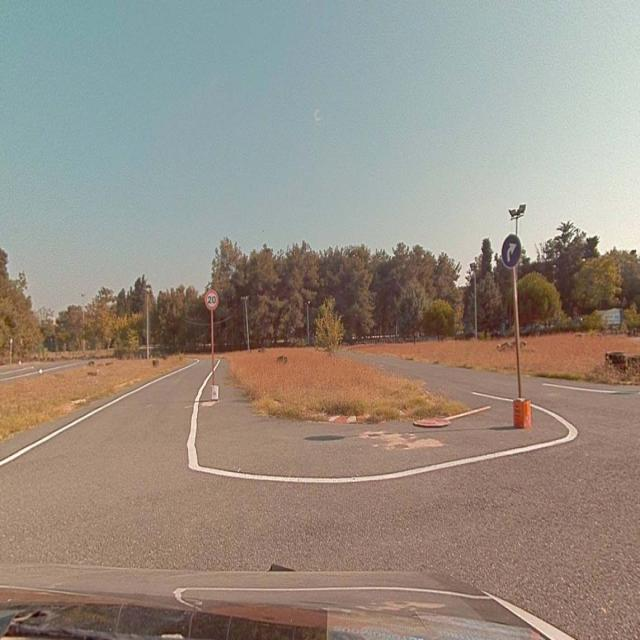20: (205, 290, 218, 309)
sag: (502, 234, 521, 266)
